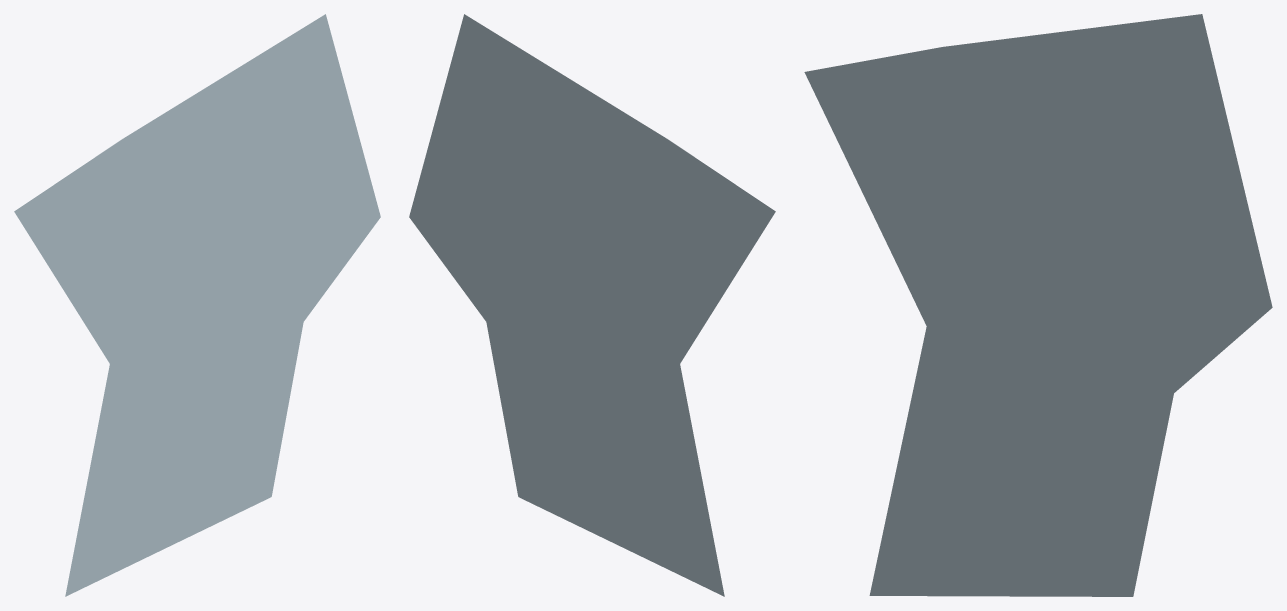
3 renders of one model, left to right at view 1: azimuth 30°, elevation 25°; view 2: azimuth 150°, elevation 25°; view 3: azimuth 330°, elevation 25°, orthographic. The views are drawn at different scales.
Visible parts, largest first — view 1: pCube43; view 2: pCube43; view 3: pCube43.
Boxes of the visible parts, x1,y1,x2,y2 form: pCube43: (14,14,380,596); pCube43: (409,14,775,596); pCube43: (804,14,1272,596).
Size of the model in its own units: 31.66 by 42.83 by 3.81e-05.
